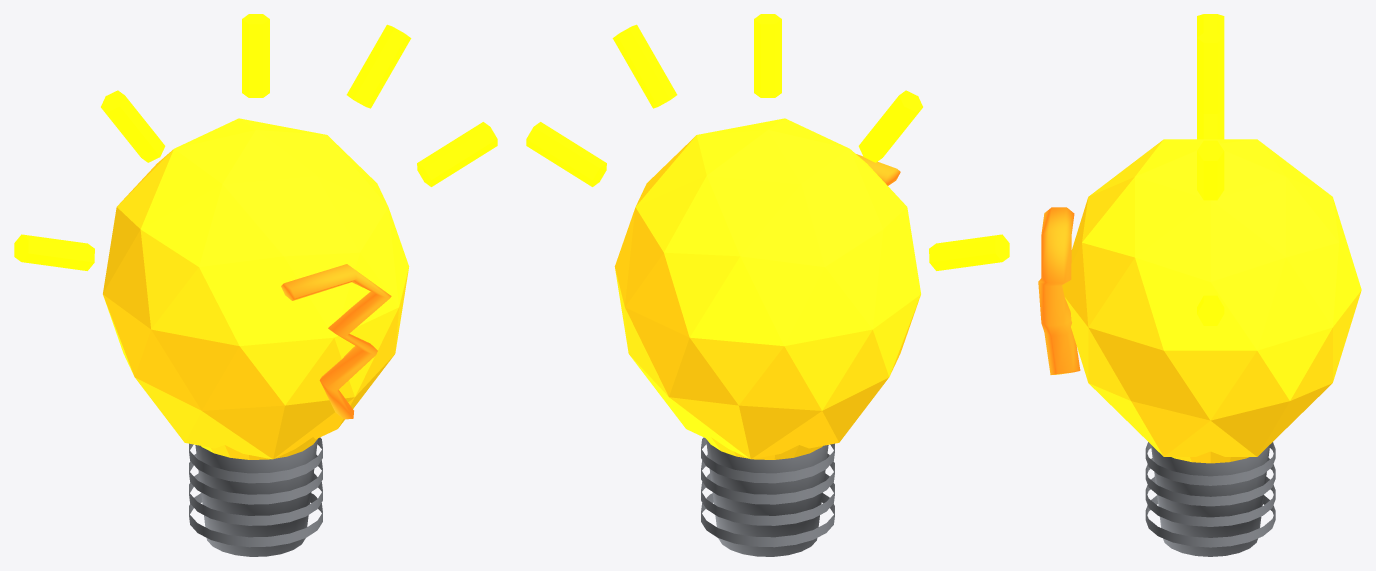
File: fx_bulb.glb
3 views of the same model, side by side, from view 1: azimuth 30°, elevation 25°; view 2: azimuth 150°, elevation 25°; view 3: azimuth 270°, elevation 25° (orthographic). The views are drawn at different scales.
Parts seen in each view (by area): view 1: fx_bulb_q; view 2: fx_bulb_q; view 3: fx_bulb_q.
Boxes of the visible parts, x1,y1,x2,y2 form: fx_bulb_q: (14,14,497,556); fx_bulb_q: (526,14,1009,556); fx_bulb_q: (1038,14,1361,556).
Size of the model in its own units: 1.76 by 1.87 by 1.07.
